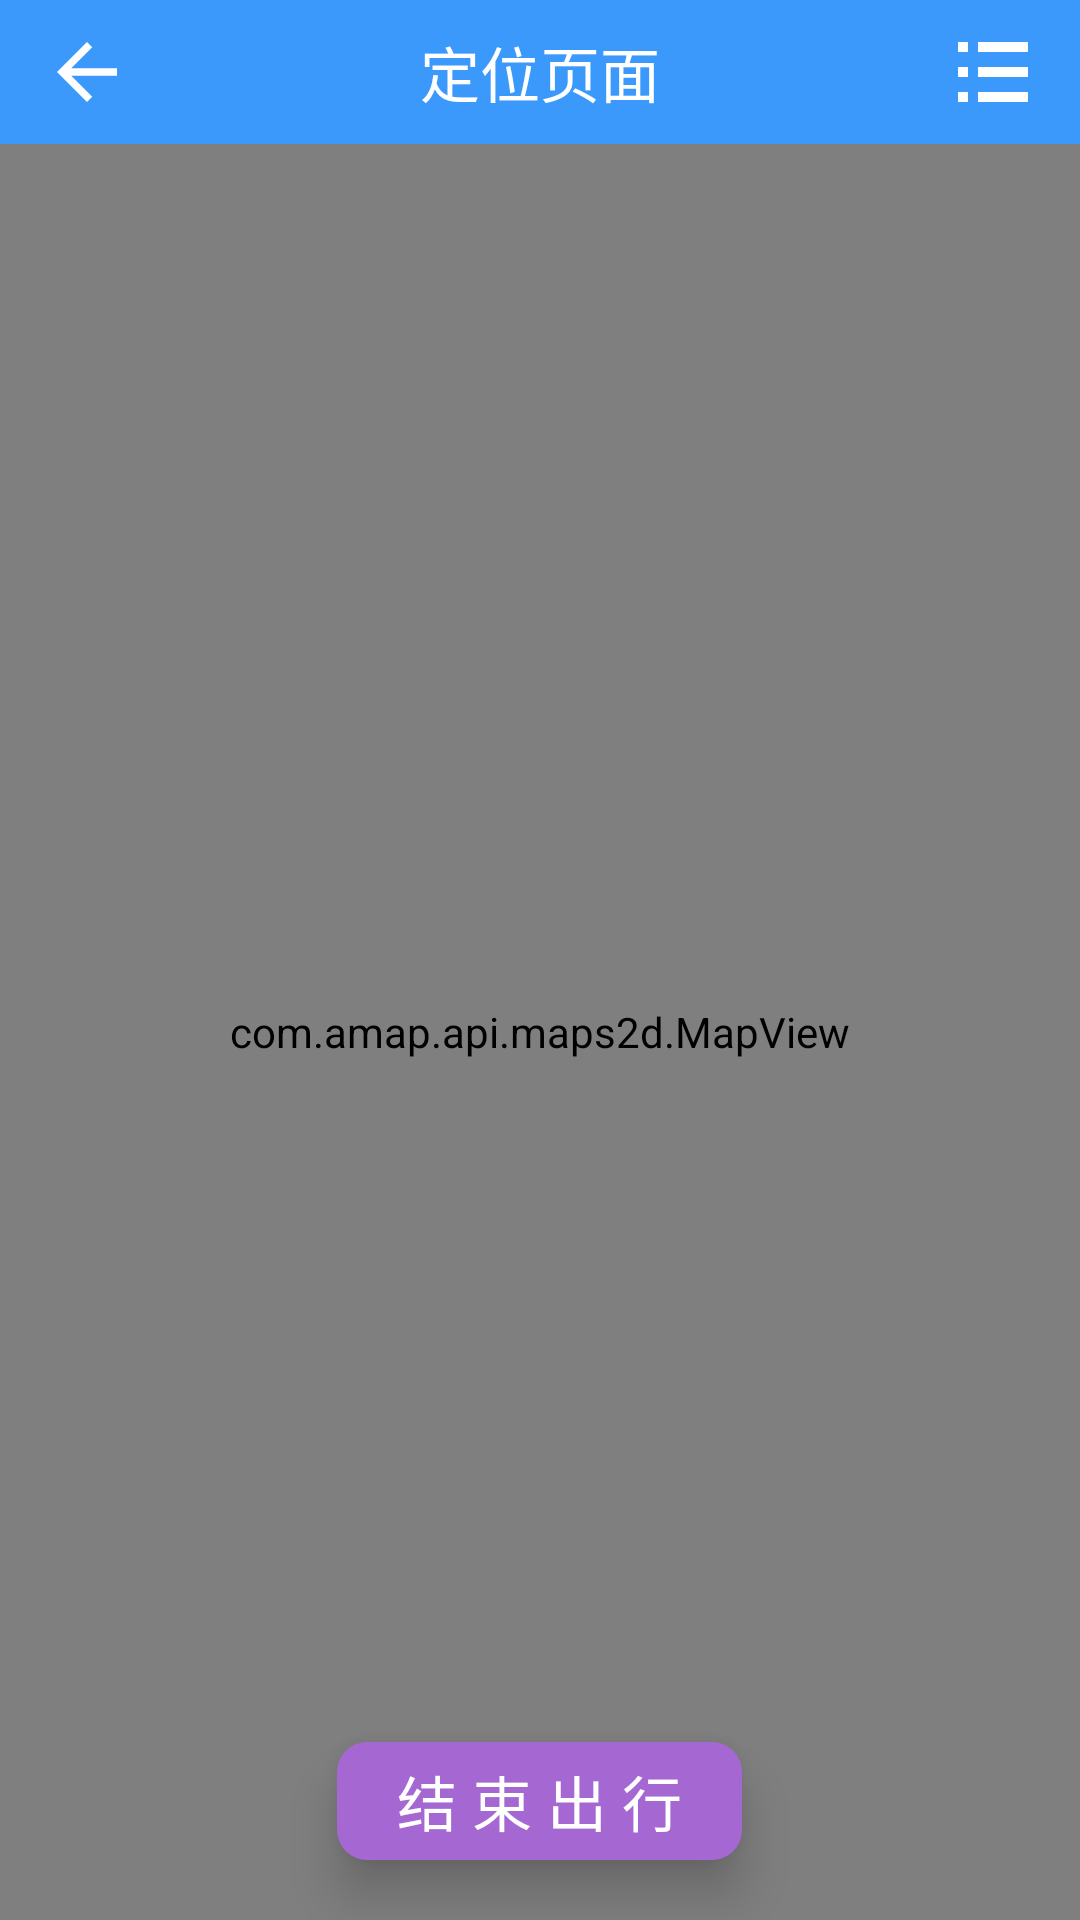

Icons on this 1080w x 1920h Android screen, each with the point to tap as point (x, y):
list: point (993, 72)
